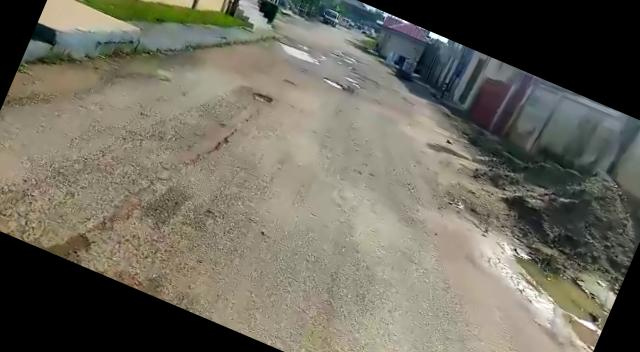pothole: (274, 38, 323, 66), (318, 74, 354, 95), (250, 88, 275, 106)
